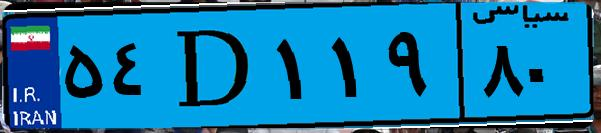0: (525, 38, 570, 115)
1: (270, 28, 330, 110), (330, 28, 385, 110)
4: (110, 28, 158, 98)
5: (57, 26, 110, 100)
8: (475, 38, 525, 113)
9: (385, 28, 445, 110)
D: (158, 12, 270, 120)
